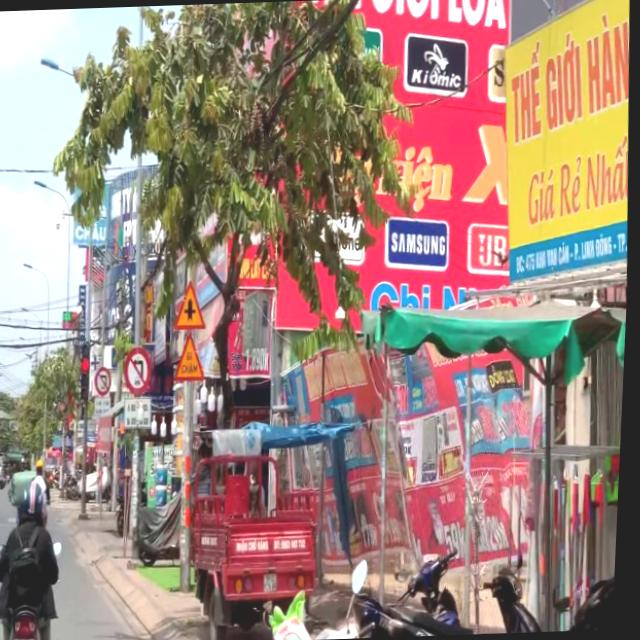Di cham: (172, 330, 211, 384)
Giao nhau voi duong khong uu tien: (174, 278, 211, 332)
